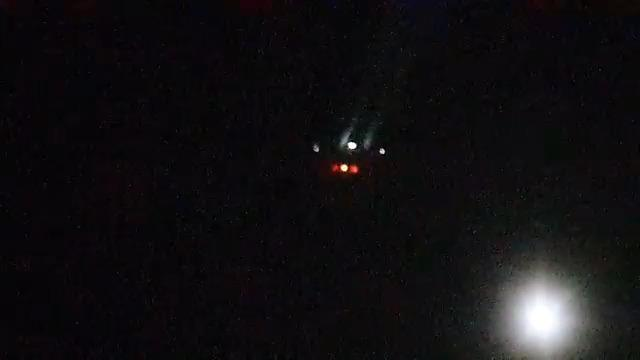Plane: (301, 114, 398, 187)
